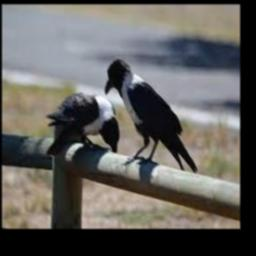Crow: (104, 60, 197, 176), (47, 92, 119, 153)
